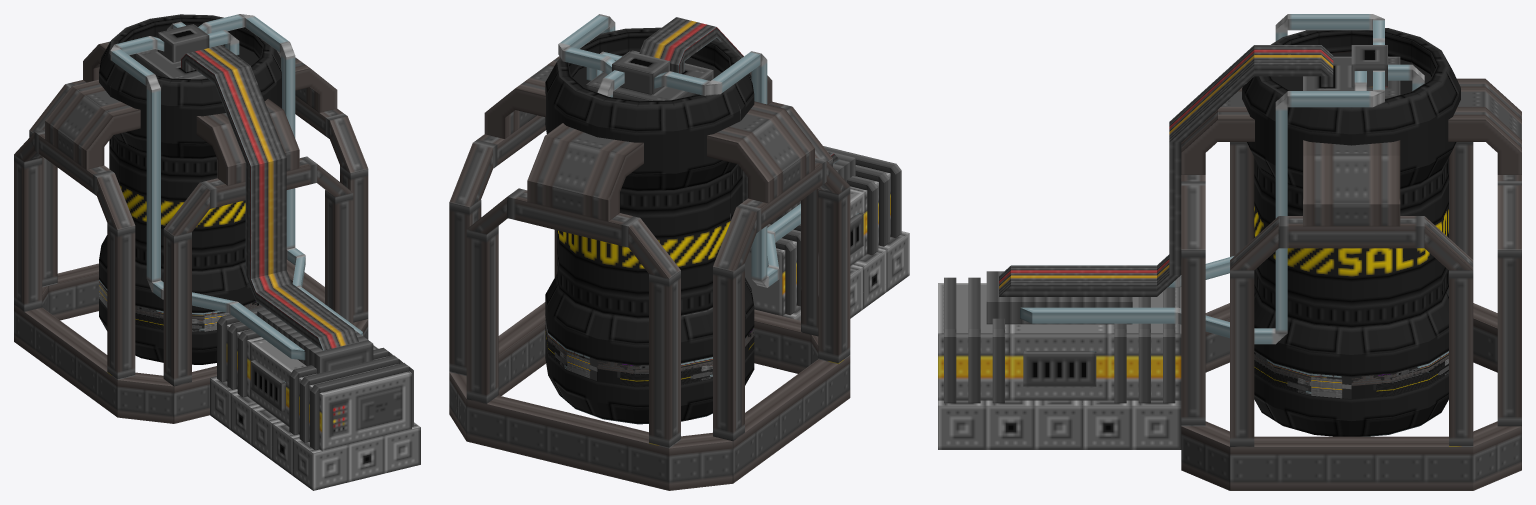
File: supercomputer.obj
The picture shows the model from 3 angles, left to right: view 1: azimuth 30°, elevation 25°; view 2: azimuth 150°, elevation 25°; view 3: azimuth 270°, elevation 25°; orthographic projection. The views are drawn at different scales.
Parts seen in each view (by area): view 1: Computer, Lights; view 2: Computer, Lights; view 3: Computer, Lights.
Boxes of the visible parts, x1,y1,x2,y2 form: Computer: (14,14,420,490); Lights: (99,280,262,331); Computer: (449,14,909,490); Lights: (545,317,754,386); Computer: (938,14,1521,490); Lights: (1254,351,1448,398).
Bounding box in the file's own units: 7 × 8.25 × 12.
